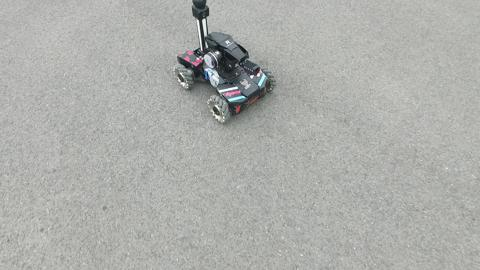chariot: (175, 1, 277, 125)
